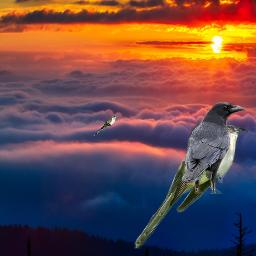Crow: (180, 102, 245, 194)
Cuckoo: (133, 124, 247, 251), (93, 115, 118, 137)
